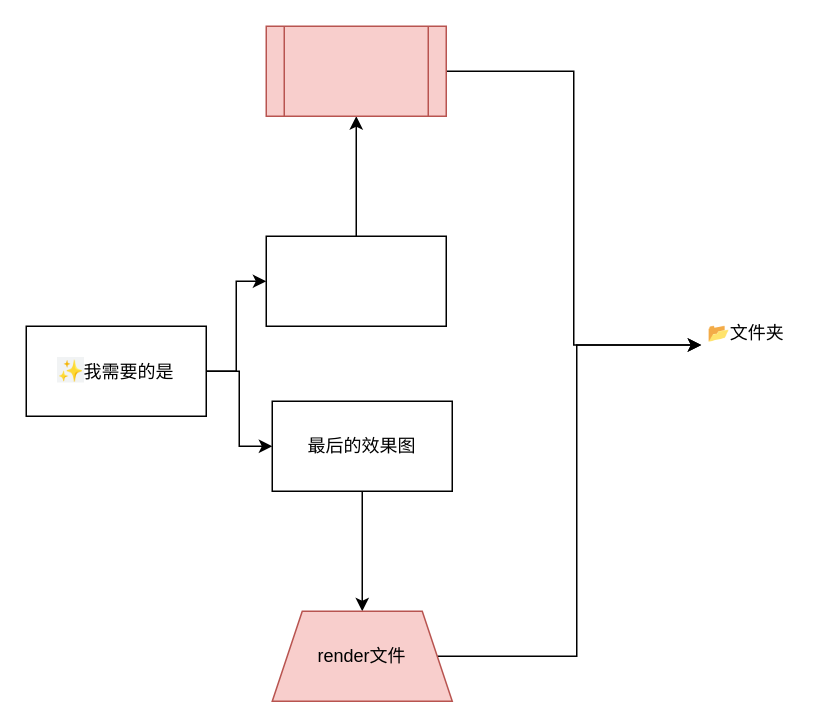
Image size: 818x728. Some labels were removed from this diagram. The shapes that lost their labels are listed below. From the top down, each one's centre as x and y in pixels, then its label:
[355,70]: 渲染文件
[355,280]: 渲染文件keyshot文件包
